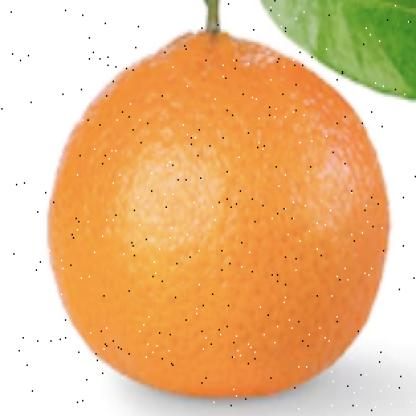fresh: (49, 25, 393, 400)
